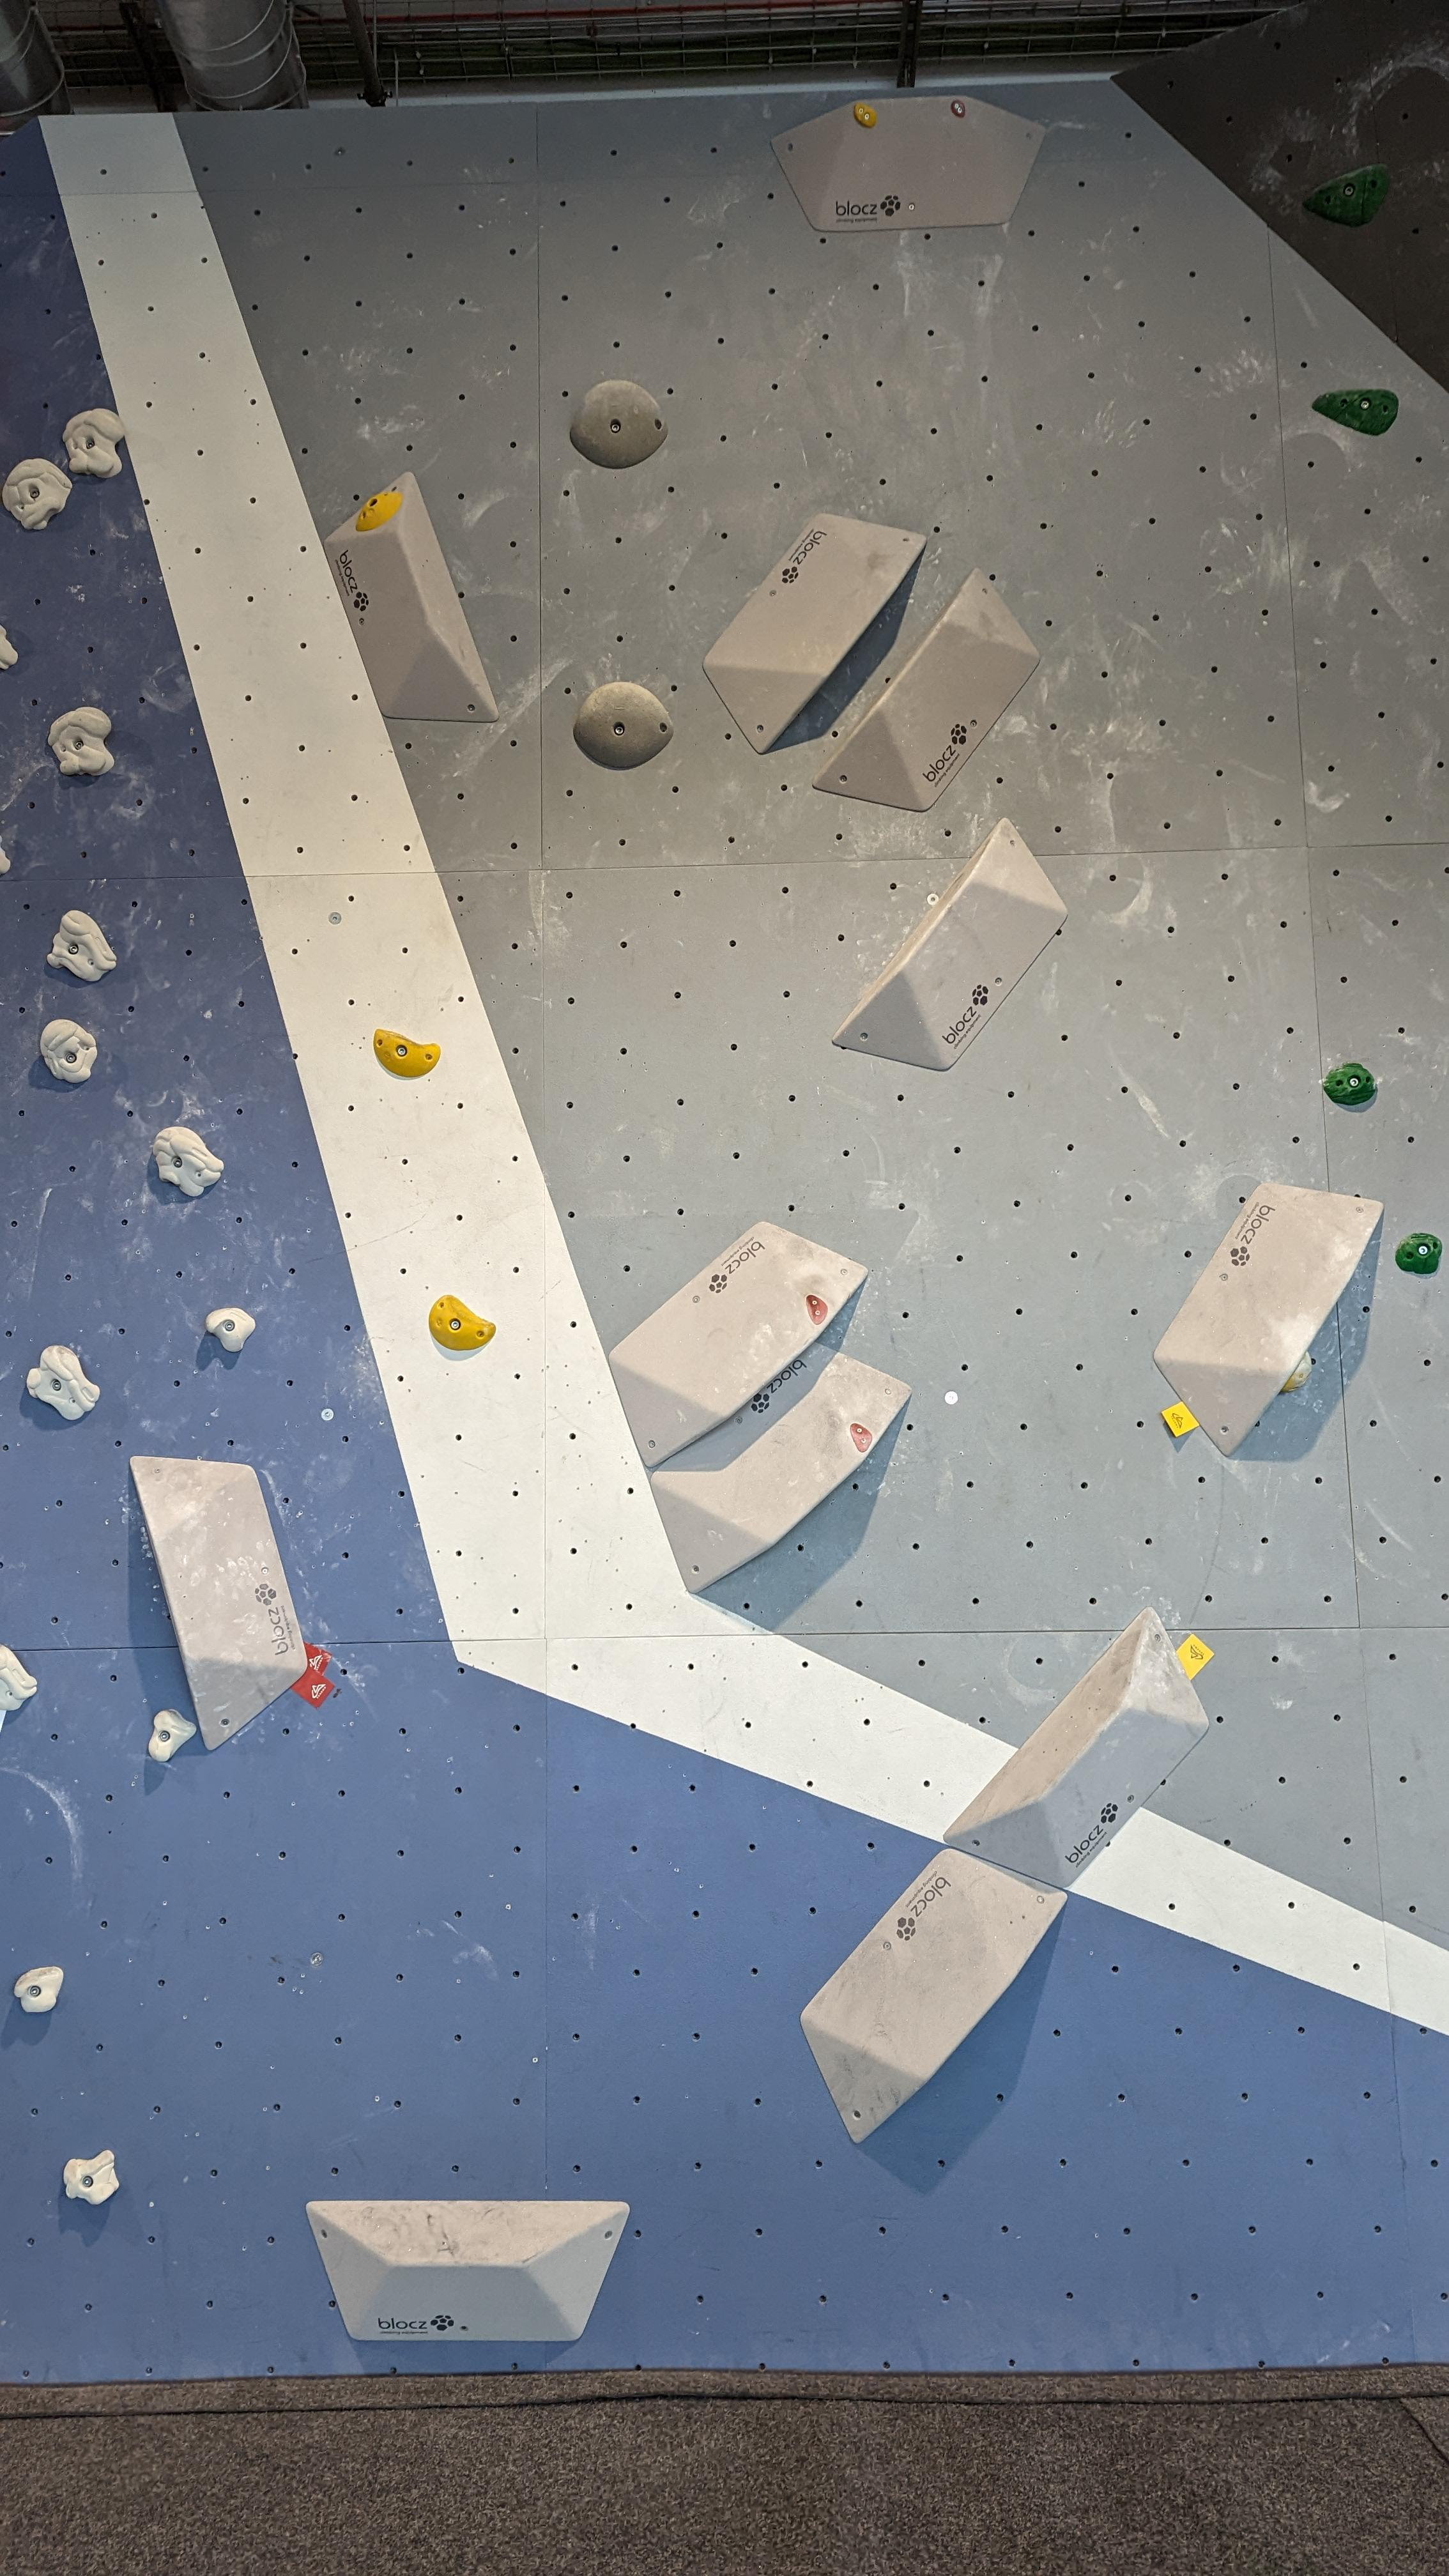hold: (800, 1849, 1067, 2144), (943, 1606, 1208, 1888), (649, 1341, 913, 1594), (609, 1223, 869, 1468), (1154, 1182, 1384, 1458), (832, 817, 1069, 1070), (812, 566, 1040, 810), (701, 513, 927, 754), (129, 1456, 308, 1752), (306, 2201, 632, 2341), (324, 471, 499, 722), (771, 94, 1046, 234), (573, 681, 674, 768), (570, 380, 669, 467), (1302, 163, 1392, 228), (27, 1345, 101, 1421), (152, 1125, 225, 1196), (48, 909, 119, 982), (2, 458, 73, 531), (48, 706, 115, 777), (62, 407, 126, 479), (1311, 387, 1399, 435), (39, 1019, 97, 1085), (428, 1295, 495, 1350), (62, 2148, 120, 2204), (373, 1028, 441, 1076), (147, 1709, 196, 1762), (0, 1642, 37, 1711), (205, 1306, 257, 1353), (12, 1966, 64, 2012), (1323, 1063, 1376, 1106), (1394, 1231, 1442, 1274), (1281, 1352, 1313, 1392), (0, 625, 18, 671), (851, 1422, 872, 1453), (807, 1295, 828, 1325), (853, 103, 878, 127), (0, 835, 11, 876), (950, 99, 966, 119)
